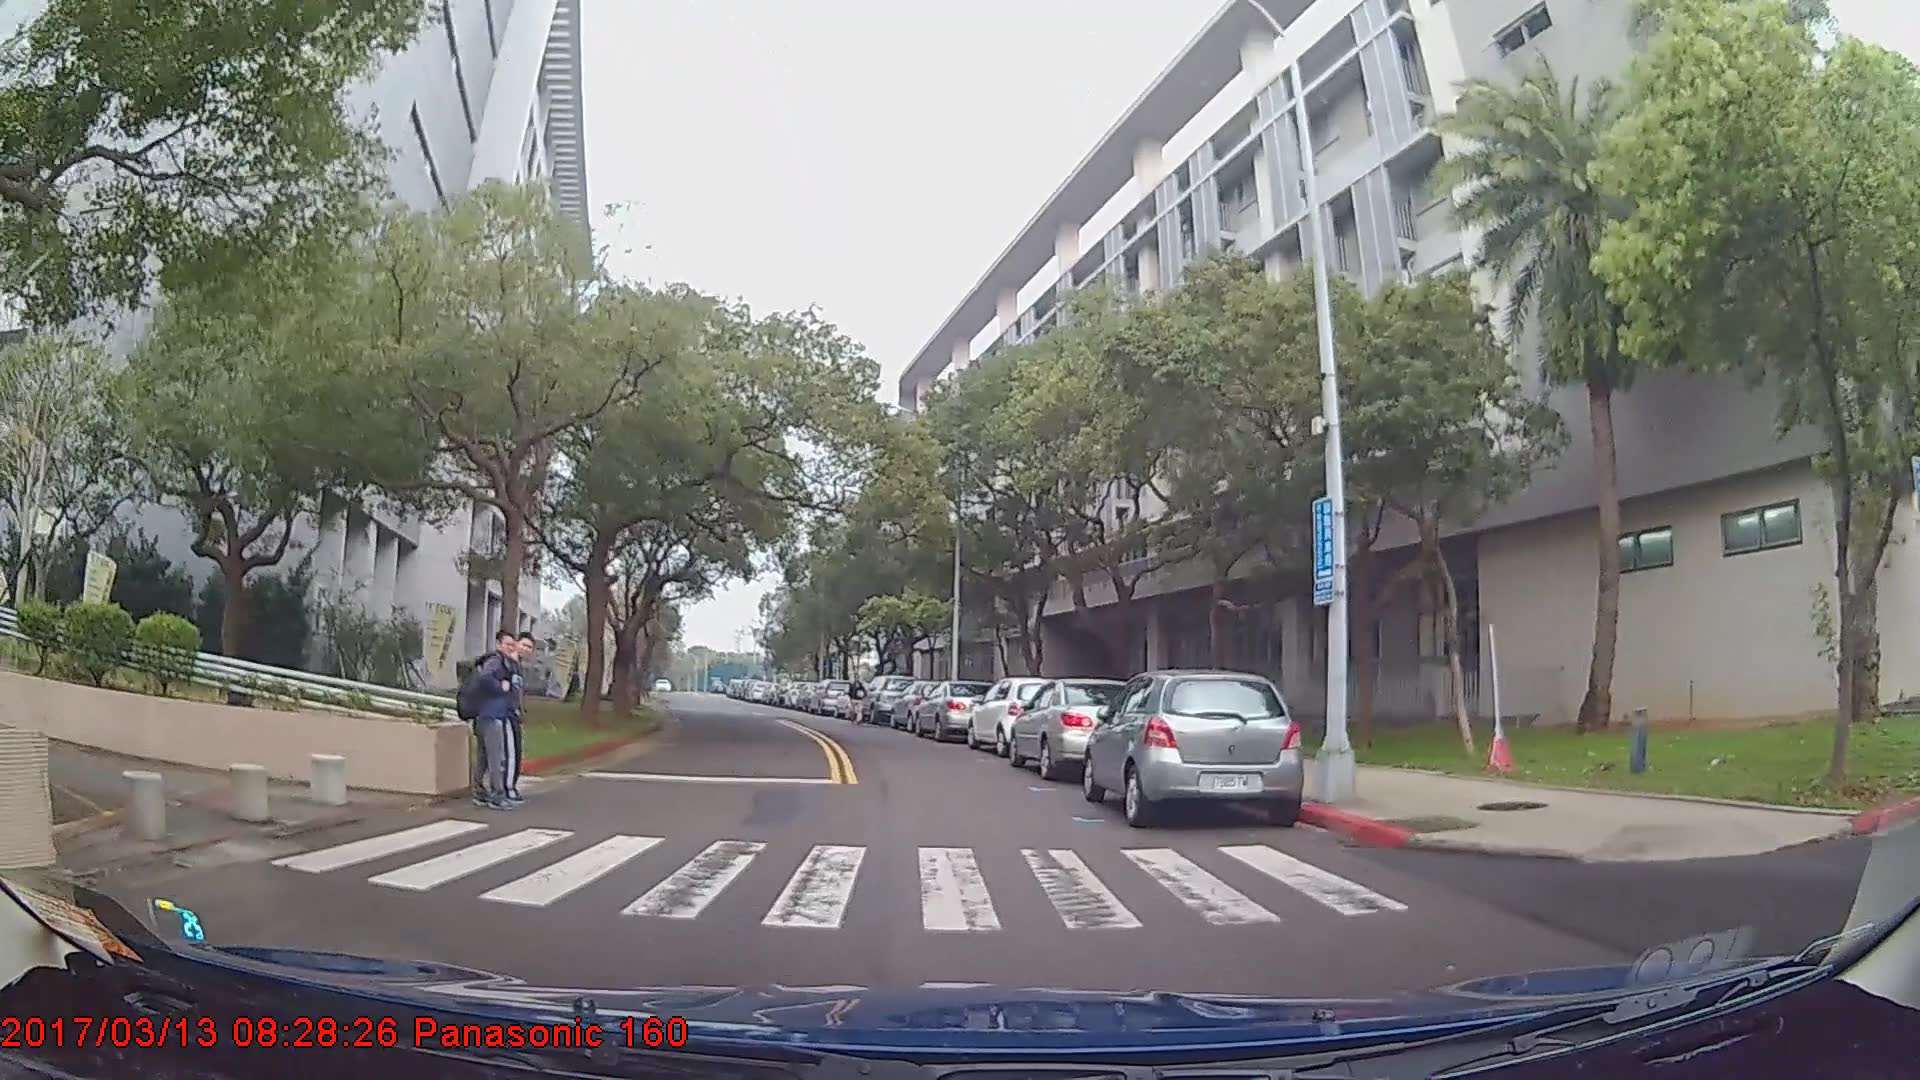pedestrian: (453, 628, 527, 819), (850, 675, 871, 726)
vehicle: (1082, 670, 1305, 831), (1007, 677, 1146, 781), (964, 675, 1065, 757), (913, 678, 1000, 742), (857, 672, 918, 724), (806, 678, 851, 716)
